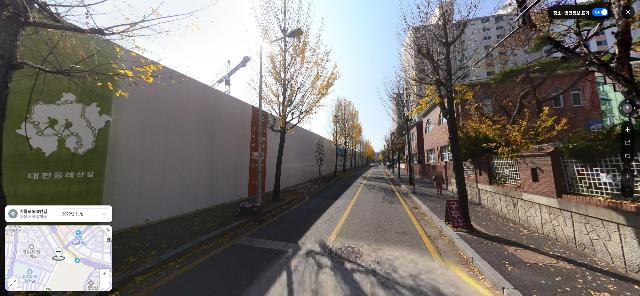ginkgo: (394, 0, 571, 231), (0, 0, 207, 150), (248, 0, 340, 201), (327, 96, 356, 179), (384, 124, 407, 178), (346, 118, 363, 172), (358, 137, 369, 169)
other: (376, 68, 417, 187)
